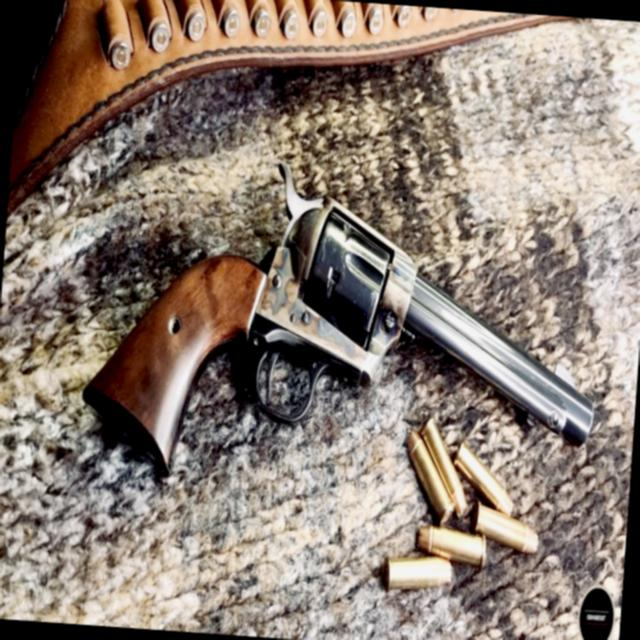revolver: (68, 162, 630, 563)
